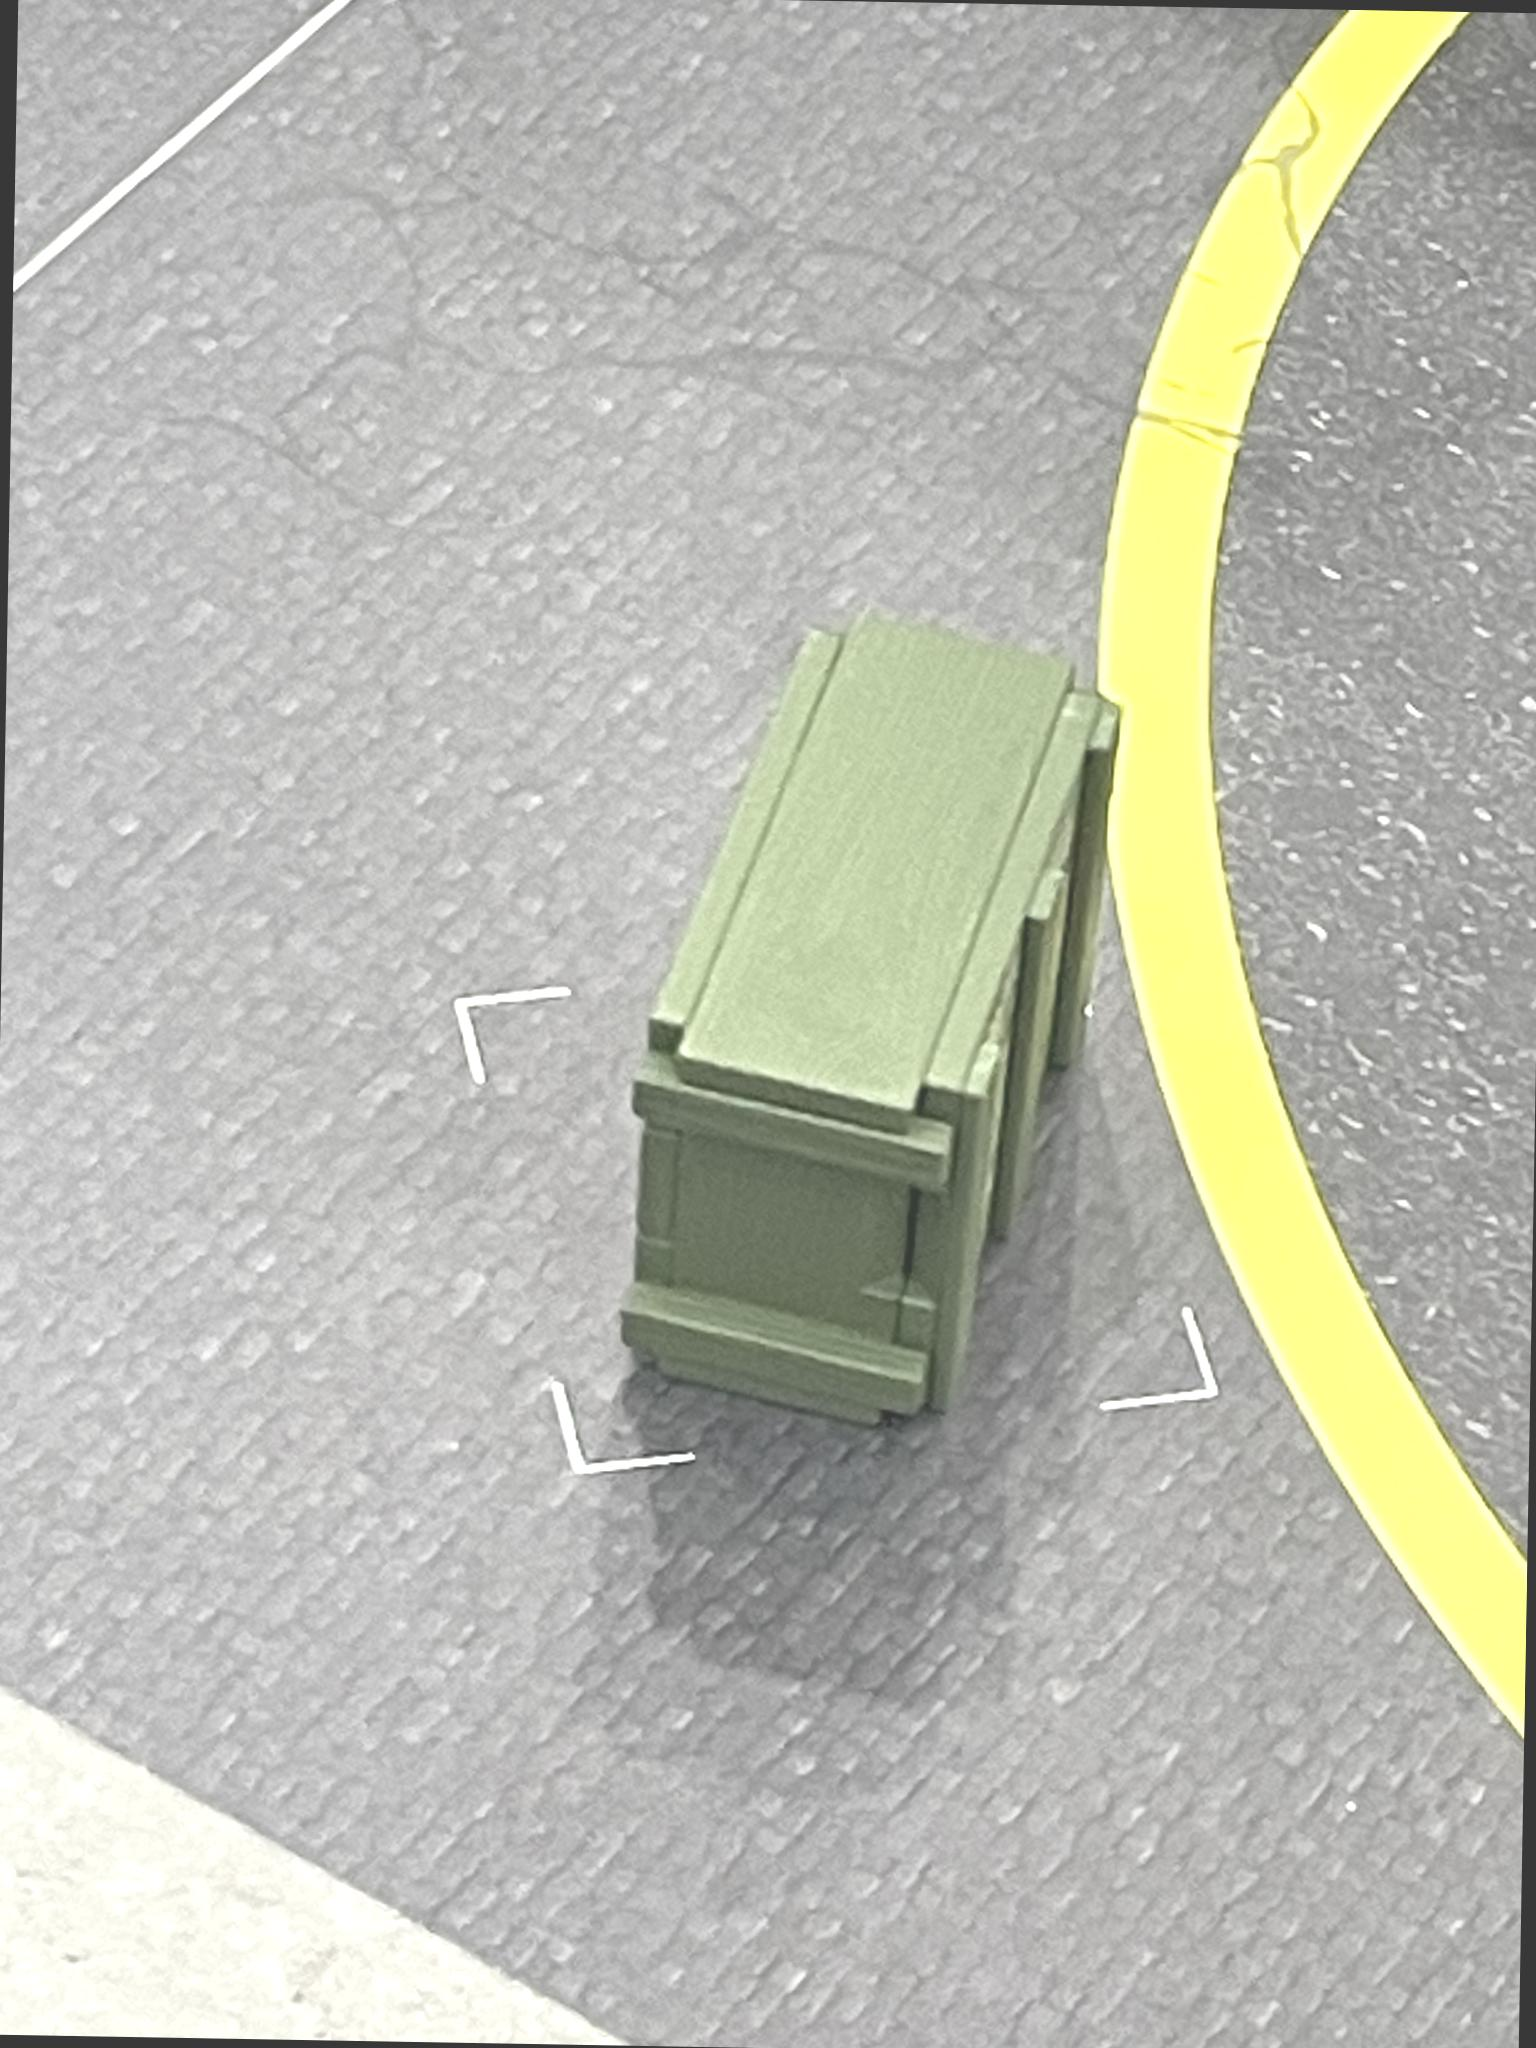Box: (615, 600, 1129, 1448)
